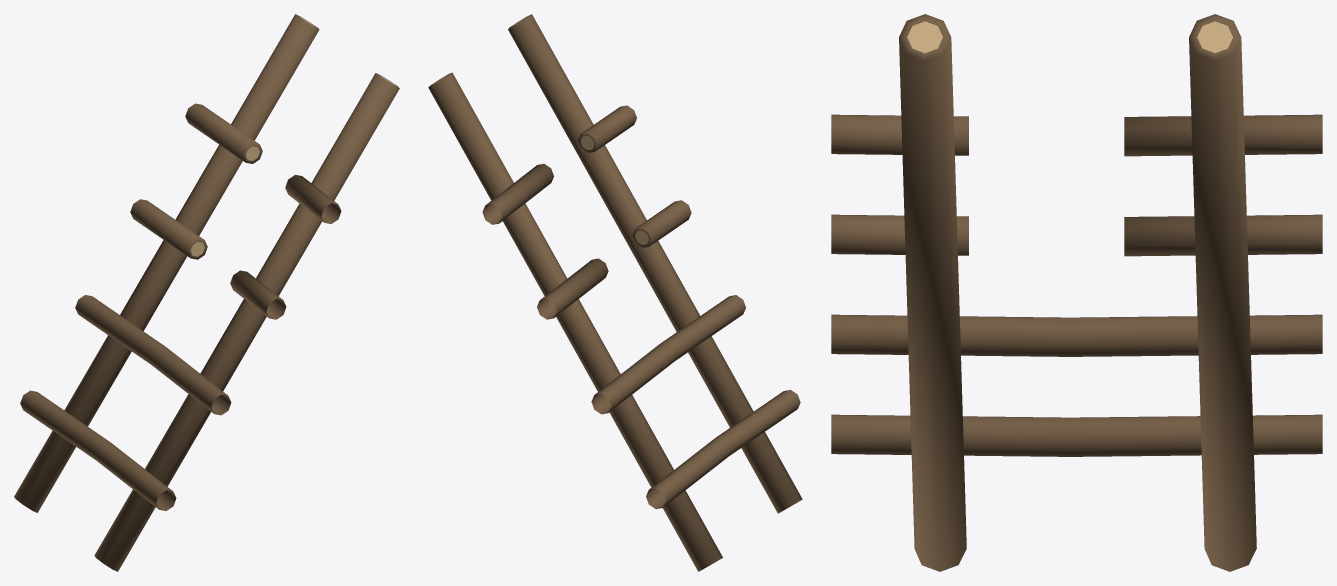
The model's file is rpgpp_ag_roof_support_01_6x5x3_half_a_chimney_01.fbx.
3 views of the same model, side by side, from view 1: azimuth 30°, elevation 25°; view 2: azimuth 150°, elevation 25°; view 3: azimuth 270°, elevation 25° (orthographic). The views are drawn at different scales.
Visible parts, largest first — view 1: rpgpp_ag_roof_support_01_6x5x3_half_a_chimney_01; view 2: rpgpp_ag_roof_support_01_6x5x3_half_a_chimney_01; view 3: rpgpp_ag_roof_support_01_6x5x3_half_a_chimney_01.
Part boxes in pixels (x1,y1,x2,y2): rpgpp_ag_roof_support_01_6x5x3_half_a_chimney_01: (14,14,399,571); rpgpp_ag_roof_support_01_6x5x3_half_a_chimney_01: (428,14,802,571); rpgpp_ag_roof_support_01_6x5x3_half_a_chimney_01: (831,14,1322,571).
Bounding box in the file's own units: 3.78 × 5.29 × 3.
